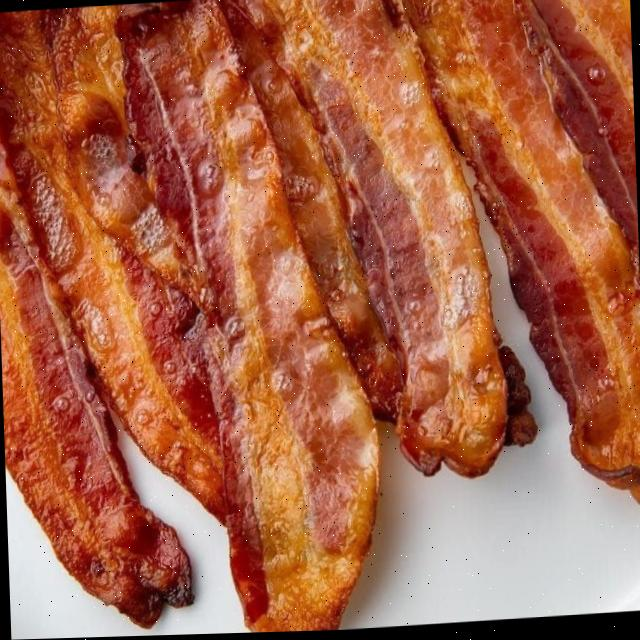Bacon: (118, 1, 378, 634), (228, 0, 506, 479), (386, 0, 640, 505), (0, 6, 225, 523), (0, 136, 192, 628)
